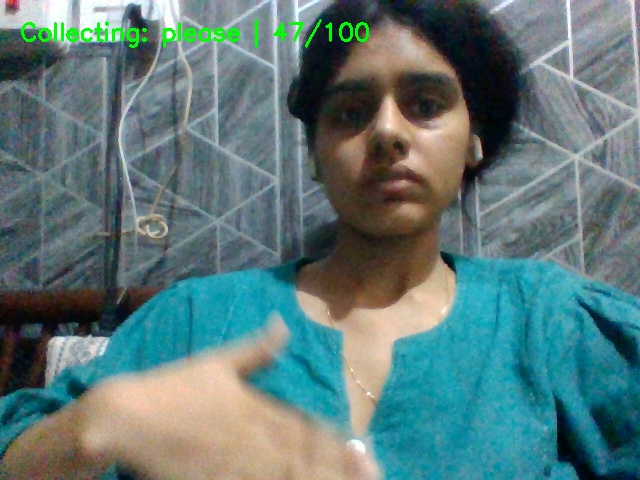please: (95, 319, 388, 480)
